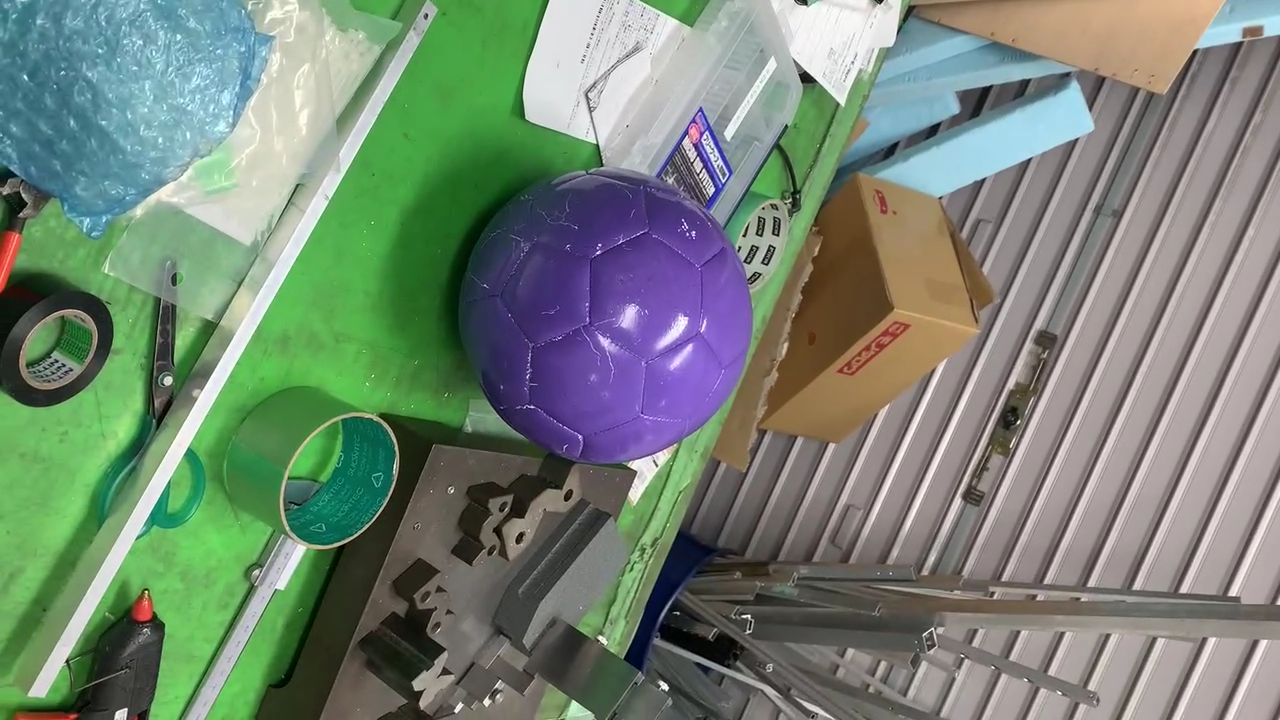purple: (457, 171, 750, 461)
